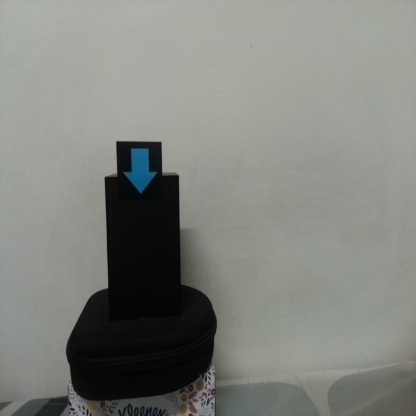id_2: (116, 141, 163, 205)
